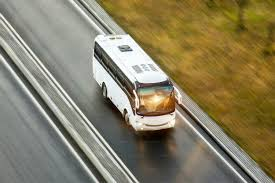bus: (92, 32, 183, 135)
